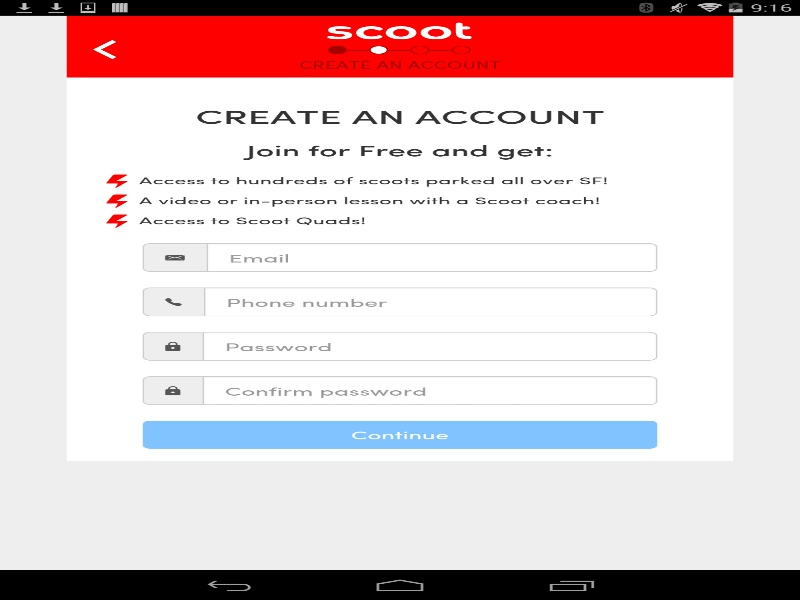Button: (141, 420, 658, 449)
Input: (201, 331, 657, 361), (201, 376, 657, 405), (202, 287, 657, 316), (205, 243, 657, 272)
